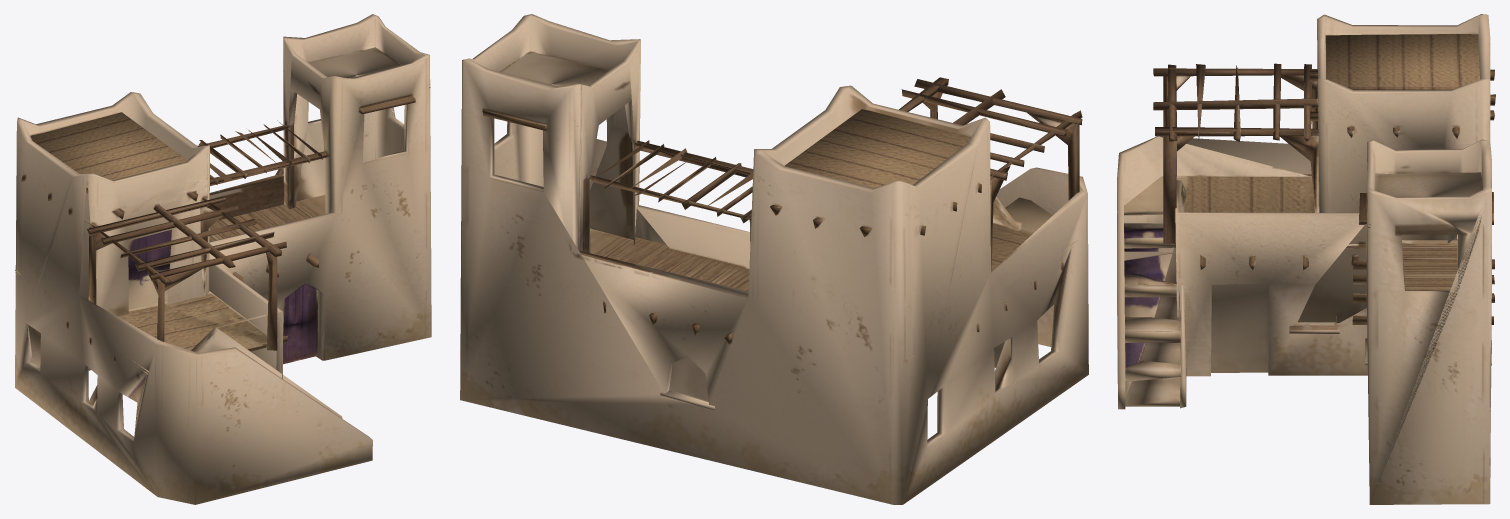
File: DesertHouse3.fbx
The picture shows the model from 3 angles, left to right: view 1: azimuth 30°, elevation 25°; view 2: azimuth 150°, elevation 25°; view 3: azimuth 270°, elevation 25°; orthographic projection. The views are drawn at different scales.
Parts seen in each view (by area): view 1: Mesh_0; view 2: Mesh_0; view 3: Mesh_0.
Part boxes in pixels (box(x1,y1,x2,y2)): Mesh_0: box(15, 14, 431, 504); Mesh_0: box(460, 14, 1088, 504); Mesh_0: box(1117, 14, 1495, 504).
Bounding box in the file's own units: 100 × 73.05 × 80.08.
Materials: 1 (1 with a texture image).
